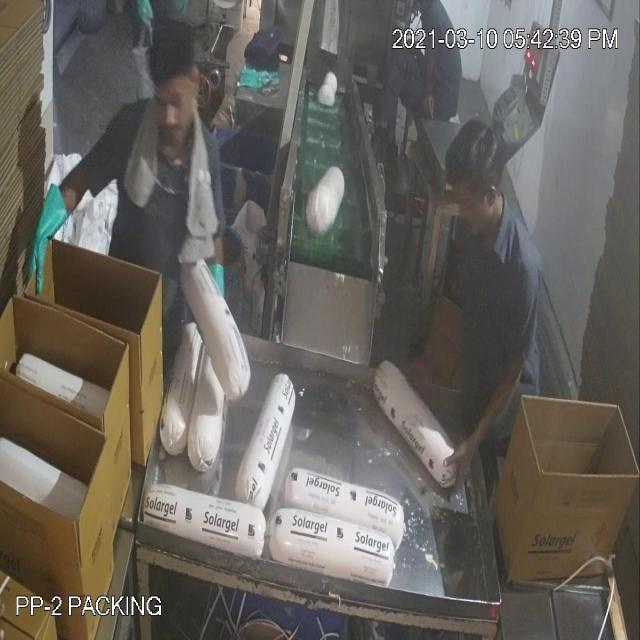gloves: (20, 172, 78, 311)
no-gloves: (443, 320, 531, 490), (404, 270, 478, 412)
